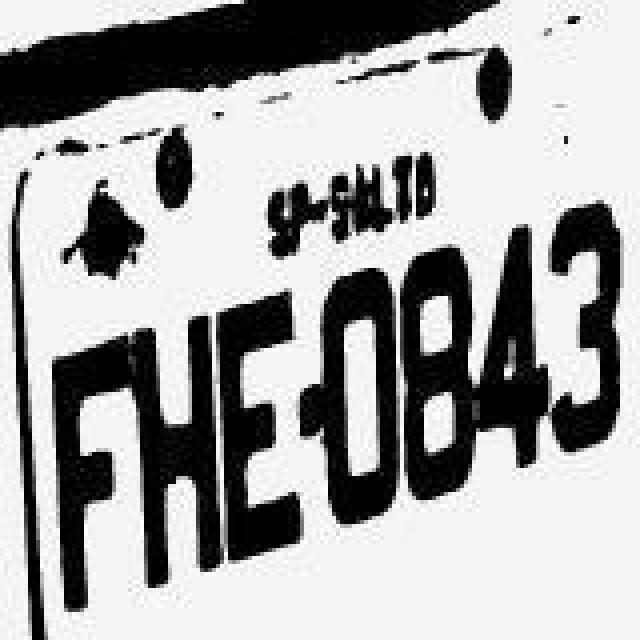3: (544, 192, 624, 472)
4: (470, 214, 554, 490)
8: (396, 240, 476, 520)
E: (224, 280, 304, 568)
F: (50, 318, 134, 610)
H: (132, 298, 220, 590)
O: (320, 258, 400, 542)
